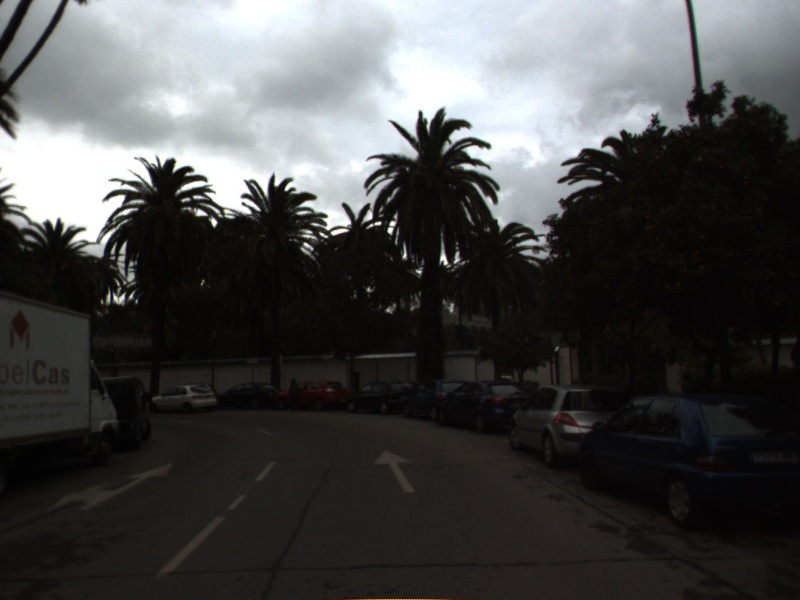STRAIGHT: (372, 448, 417, 494)
STRAIGHT_LEFT: (44, 460, 176, 515)
